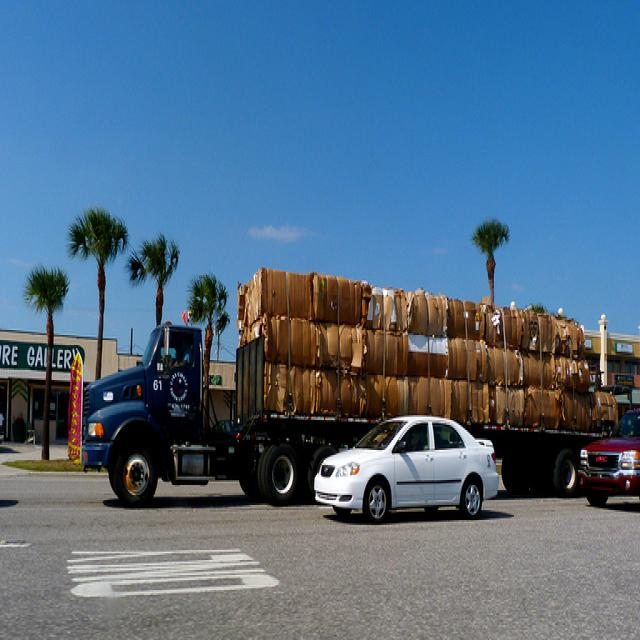Vehicle: (82, 269, 617, 509), (315, 415, 501, 527), (583, 408, 640, 497)
